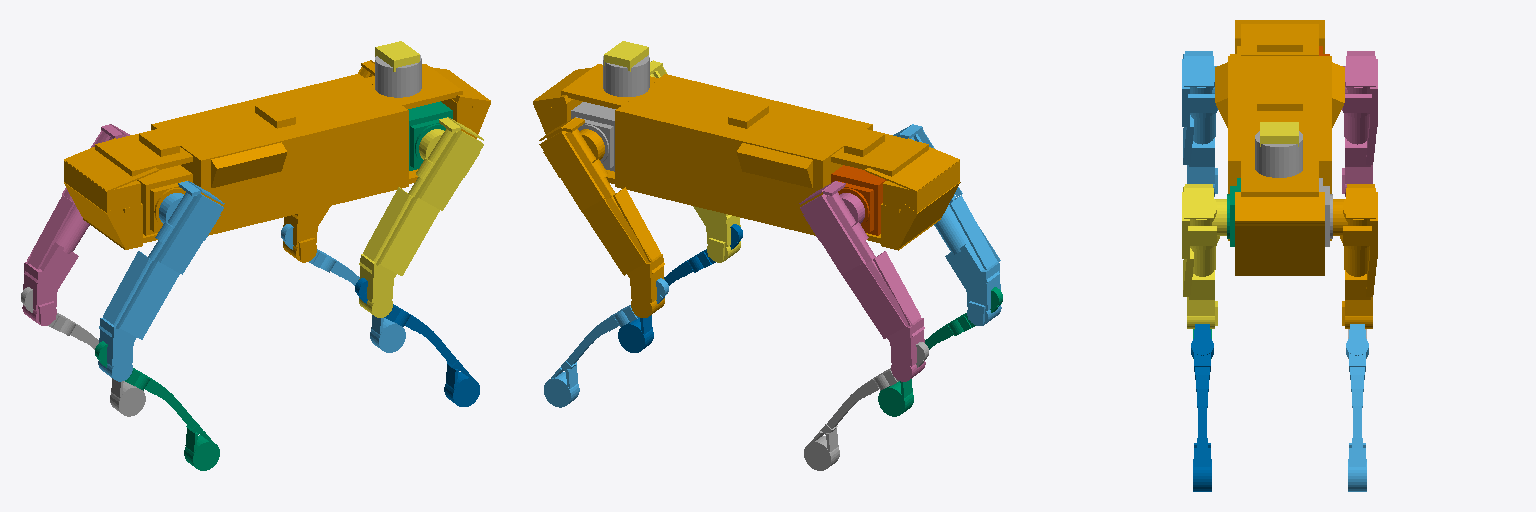
--- Render facts (derived) ---
3 views of the same robot in one strip: view 1: azimuth 30°, elevation 25°; view 2: azimuth 150°, elevation 25°; view 3: azimuth 270°, elevation 25° (orthographic).
Model Spot with 50 links and 49 joints (13 revolute, 4 continuous, 32 fixed), rooted at base_link, posed all joints at 0.
Visible links, largest first — view 1: base_link, rear right upperarm, front right upperarm, rear left upperarm, rear right forearm, front right forearm, rear left forearm, front left forearm, rear right shoulder, front left upperarm, Velodyne_Puck, front right shoulder (+1 smaller); view 2: base_link, rear left upperarm, front left upperarm, rear right upperarm, rear left forearm, front left forearm, rear right forearm, front right forearm, rear left shoulder, front right upperarm, Velodyne_Puck, front left shoulder (+1 smaller); view 3: base_link, front right upperarm, front left upperarm, rear right upperarm, rear left upperarm, front right forearm, front left forearm, Velodyne_Puck, kinect.
Boxes of the visible links, box(x1,y1,x2,y2) form: base_link: box(64, 64, 490, 249); rear right upperarm: box(98, 181, 224, 381); front right upperarm: box(359, 117, 483, 317); rear left upperarm: box(22, 124, 129, 325); rear right forearm: box(95, 341, 219, 470); front right forearm: box(355, 278, 479, 406); rear left forearm: box(21, 287, 145, 416); front left forearm: box(281, 224, 405, 352); rear right shoulder: box(137, 165, 192, 235); front left upperarm: box(283, 60, 374, 262); Velodyne_Puck: box(375, 55, 421, 97); front right shoulder: box(408, 101, 452, 170); base_link: box(533, 64, 960, 250); rear left upperarm: box(799, 181, 925, 381); front left upperarm: box(539, 117, 664, 317); rear right upperarm: box(893, 124, 1001, 325); rear left forearm: box(804, 342, 928, 470); front left forearm: box(544, 278, 668, 407); rear right forearm: box(878, 287, 1002, 416); front right forearm: box(618, 224, 742, 352); rear left shoulder: box(831, 165, 886, 235); front right upperarm: box(650, 60, 740, 262); Velodyne_Puck: box(603, 55, 649, 96); front left shoulder: box(571, 102, 615, 171); base_link: box(1215, 20, 1344, 275); front right upperarm: box(1182, 184, 1226, 328); front left upperarm: box(1333, 184, 1377, 328); rear right upperarm: box(1182, 51, 1217, 196); rear left upperarm: box(1342, 51, 1377, 196); front right forearm: box(1191, 324, 1213, 491); front left forearm: box(1346, 324, 1368, 491); Velodyne_Puck: box(1255, 131, 1302, 177); kinect: box(1260, 122, 1298, 146).
Bounding box of the posed robot: 1.06 × 0.42 × 0.8213 m (x, y, z).
Geometry: primitives only (box / cylinder / sphere), no mesh files.

robot.urdf — Spot:
<?xml version="1.0"?>
<robot name="Spot" xmlns:xacro="http://ros.org/wiki/xacro">
  <link name="base_link">
    <visual>
      <origin xyz="0.462094 0 -0.000232" rpy="1.127615 -0.00001 -1.570793"/>
      <geometry>
        <box size="0.192453 0.177358 0.043396"/>
      </geometry>
    </visual>
    <collision>
      <origin xyz="0.462094 0 -0.000232" rpy="1.127615 -0.00001 -1.570793"/>
      <geometry>
        <box size="0.192453 0.177358 0.043396"/>
      </geometry>
    </collision>
    <visual>
      <origin xyz="0.477932 0 0.084013" rpy="1.217205 -0.000011 -1.570792"/>
      <geometry>
        <box size="0.192453 0.018113 0.08717"/>
      </geometry>
    </visual>
    <collision>
      <origin xyz="0.477932 0 0.084013" rpy="1.217205 -0.000011 -1.570792"/>
      <geometry>
        <box size="0.192453 0.018113 0.08717"/>
      </geometry>
    </collision>
    <visual>
      <origin xyz="0.451833 0 0.041304" rpy="0 0 0"/>
      <geometry>
        <box size="0.037736 0.192453 0.102642"/>
      </geometry>
    </visual>
    <collision>
      <origin xyz="0.451833 0 0.041304" rpy="0 0 0"/>
      <geometry>
        <box size="0.037736 0.192453 0.102642"/>
      </geometry>
    </collision>
    <visual>
      <origin xyz="0.031113 0 0.018833" rpy="0 0 0"/>
      <geometry>
        <box size="0.535849 0.222642 0.189434"/>
      </geometry>
    </visual>
    <collision>
      <origin xyz="0.031113 0 0.018833" rpy="0 0 0"/>
      <geometry>
        <box size="0.535849 0.222642 0.189434"/>
      </geometry>
    </collision>
    <visual>
      <origin xyz="0.376019 0 0.107135" rpy="0 0 0"/>
      <geometry>
        <box size="0.158491 0.166038 0.013208"/>
      </geometry>
    </visual>
    <collision>
      <origin xyz="0.376019 0 0.107135" rpy="0 0 0"/>
      <geometry>
        <box size="0.158491 0.166038 0.013208"/>
      </geometry>
    </collision>
    <visual>
      <origin xyz="0.363578 0 -0.079657" rpy="1.537614 -0.00001 -1.570793"/>
      <geometry>
        <box size="0.166038 0.013208 0.124528"/>
      </geometry>
    </visual>
    <collision>
      <origin xyz="0.363578 0 -0.079657" rpy="1.537614 -0.00001 -1.570793"/>
      <geometry>
        <box size="0.166038 0.013208 0.124528"/>
      </geometry>
    </collision>
    <visual>
      <origin xyz="-0.319453 0 0.107135" rpy="0 0 0"/>
      <geometry>
        <box size="0.158491 0.166038 0.013208"/>
      </geometry>
    </visual>
    <collision>
      <origin xyz="-0.319453 0 0.107135" rpy="0 0 0"/>
      <geometry>
        <box size="0.158491 0.166038 0.013208"/>
      </geometry>
    </collision>
    <visual>
      <origin xyz="-0.313025 0 -0.064563" rpy="0 0 0"/>
      <geometry>
        <box size="0.14717 0.166038 0.013208"/>
      </geometry>
    </visual>
    <collision>
      <origin xyz="-0.313025 0 -0.064563" rpy="0 0 0"/>
      <geometry>
        <box size="0.14717 0.166038 0.013208"/>
      </geometry>
    </collision>
    <visual>
      <origin xyz="-0.120195 0.111629 0.074886" rpy="1.5708 -0.423195 -1.570794"/>
      <geometry>
        <box size="0.030189 0.064528 0.182264"/>
      </geometry>
    </visual>
    <collision>
      <origin xyz="-0.120195 0.111629 0.074886" rpy="1.5708 -0.423195 -1.570794"/>
      <geometry>
        <box size="0.030189 0.064528 0.182264"/>
      </geometry>
    </collision>
    <visual>
      <origin xyz="-0.120195 -0.111629 0.074886" rpy="1.5708 0.423174 -1.570793"/>
      <geometry>
        <box size="0.030189 0.064528 0.182264"/>
      </geometry>
    </visual>
    <collision>
      <origin xyz="-0.120195 -0.111629 0.074886" rpy="1.5708 0.423174 -1.570793"/>
      <geometry>
        <box size="0.030189 0.064528 0.182264"/>
      </geometry>
    </collision>
    <visual>
      <origin xyz="-0.427377 0 0.059588" rpy="0 0 0"/>
      <geometry>
        <box size="0.089057 0.192453 0.05283"/>
      </geometry>
    </visual>
    <collision>
      <origin xyz="-0.427377 0 0.059588" rpy="0 0 0"/>
      <geometry>
        <box size="0.089057 0.192453 0.05283"/>
      </geometry>
    </collision>
    <visual>
      <origin xyz="-0.404 0 0.096611" rpy="1.730798 -0.000011 -1.570794"/>
      <geometry>
        <box size="0.193585 0.003774 0.135849"/>
      </geometry>
    </visual>
    <collision>
      <origin xyz="-0.404 0 0.096611" rpy="1.730798 -0.000011 -1.570794"/>
      <geometry>
        <box size="0.193585 0.003774 0.135849"/>
      </geometry>
    </collision>
    <visual>
      <origin xyz="-0.400585 0 -0.018903" rpy="0 0 0"/>
      <geometry>
        <box size="0.04566 0.191698 0.103396"/>
      </geometry>
    </visual>
    <collision>
      <origin xyz="-0.400585 0 -0.018903" rpy="0 0 0"/>
      <geometry>
        <box size="0.04566 0.191698 0.103396"/>
      </geometry>
    </collision>
    <visual>
      <origin xyz="-0.431528 0 -0.008337" rpy="2.0308 -0.00001 -1.570793"/>
      <geometry>
        <box size="0.193585 0.109434 0.037736"/>
      </geometry>
    </visual>
    <collision>
      <origin xyz="-0.431528 0 -0.008337" rpy="2.0308 -0.00001 -1.570793"/>
      <geometry>
        <box size="0.193585 0.109434 0.037736"/>
      </geometry>
    </collision>
    <visual>
      <origin xyz="-0.28 0 0.121" rpy="0 0 0"/>
      <geometry>
        <box size="0.05 0.1 0.02"/>
      </geometry>
    </visual>
    <collision>
      <origin xyz="-0.28 0 0.121" rpy="0 0 0"/>
      <geometry>
        <box size="0.05 0.1 0.02"/>
      </geometry>
    </collision>
    <visual>
      <origin xyz="0.02 0 0.121" rpy="0 0 0"/>
      <geometry>
        <box size="0.05 0.1 0.02"/>
      </geometry>
    </visual>
    <collision>
      <origin xyz="0.02 0 0.121" rpy="0 0 0"/>
      <geometry>
        <box size="0.05 0.1 0.02"/>
      </geometry>
    </collision>
  </link>
  <link name="solid">
  </link>
  <joint name="base_link_solid_joint" type="fixed">
    <parent link="base_link"/>
    <child link="solid"/>
    <origin xyz="0.416 0 0.111801" rpy="-0.000008 -0.000008 0.000001"/>
  </joint>
  <link name="distance_sensor">
  </link>
  <joint name="solid_distance_sensor_joint" type="fixed">
    <parent link="solid"/>
    <child link="distance_sensor"/>
    <origin xyz="0 0 0" rpy="0 0.000005 0"/>
  </joint>
  <link name="kinect">
    <visual>
      <origin xyz="0 0 0.013" rpy="1.570741 0.000118 -1.570741"/>
      <geometry>
        <box size="0.084 0.027 0.068"/>
      </geometry>
    </visual>
    <collision>
      <origin xyz="0 0 0.013" rpy="1.570741 0.000118 -1.570741"/>
      <geometry>
        <box size="0.084 0.027 0.068"/>
      </geometry>
    </collision>
  </link>
  <joint name="base_link_kinect_joint" type="fixed">
    <parent link="base_link"/>
    <child link="kinect"/>
    <origin xyz="0.334809 -0.000999 0.180133" rpy="-0.000011 0.008756 0.000004"/>
  </joint>
  <joint name="tilt motor" type="revolute">
    <parent link="kinect"/>
    <child link="solid_0"/>
    <axis xyz="1 0.000118 0.000055"/>
    <limit effort="10" lower="-0.47" upper="0.47" velocity="10"/>
    <origin xyz="0 0 0.05" rpy="1.570741 0.000118 -1.570741"/>
  </joint>
  <link name="solid_0">
  </link>
  <link name="kinect range">
  </link>
  <joint name="solid_0_kinect range_joint" type="fixed">
    <parent link="solid_0"/>
    <child link="kinect range"/>
    <origin xyz="0 0 -0.0127" rpy="-0.785397 1.570792 0.785397"/>
  </joint>
  <link name="kinect color">
  </link>
  <joint name="solid_0_kinect color_joint" type="fixed">
    <parent link="solid_0"/>
    <child link="kinect color"/>
    <origin xyz="0 0 -0.0127" rpy="-0.785397 1.570792 0.785397"/>
  </joint>
  <link name="Velodyne_Puck">
    <visual>
      <origin xyz="0 -0.00165 0" rpy="0 0 0"/>
      <geometry>
        <cylinder radius="0.052" length="0.0727"/>
      </geometry>
    </visual>
    <collision>
      <origin xyz="0 -0.00165 0" rpy="0 0 0"/>
      <geometry>
        <cylinder radius="0.052" length="0.0727"/>
      </geometry>
    </collision>
  </link>
  <joint name="base_link_Velodyne_Puck_joint" type="fixed">
    <parent link="base_link"/>
    <child link="Velodyne_Puck"/>
    <origin xyz="0.336 0.000001 0.1518" rpy="-0.000008 -0.000008 0.000001"/>
  </joint>
  <joint name="rear right shoulder abduction motor" type="revolute">
    <parent link="base_link"/>
    <child link="rear right shoulder"/>
    <axis xyz="0 0 1"/>
    <limit effort="50" lower="-0.6" upper="0.5" velocity="10"/>
    <origin xyz="-0.3084 -0.0528 0.012301" rpy="1.5708 -0.00001 -1.570793"/>
  </joint>
  <link name="rear right shoulder">
    <visual>
      <origin xyz="-0.004874 0.000873 -0.000643" rpy="0 0 0"/>
      <geometry>
        <box size="0.086792 0.124528 0.120755"/>
      </geometry>
    </visual>
    <collision>
      <origin xyz="-0.004874 0.000873 -0.000643" rpy="0 0 0"/>
      <geometry>
        <box size="0.086792 0.124528 0.120755"/>
      </geometry>
    </collision>
    <visual>
      <origin xyz="0.006447 0.000873 -0.000643" rpy="0 0 0"/>
      <geometry>
        <box size="0.098113 0.098113 0.098113"/>
      </geometry>
    </visual>
    <collision>
      <origin xyz="0.006447 0.000873 -0.000643" rpy="0 0 0"/>
      <geometry>
        <box size="0.098113 0.098113 0.098113"/>
      </geometry>
    </collision>
    <visual>
      <origin xyz="0.058145 0.000873 -0.000643" rpy="-1.5708 0 1.5708"/>
      <geometry>
        <cylinder radius="0.047925" length="0.006038"/>
      </geometry>
    </visual>
    <collision>
      <origin xyz="0.058145 0.000873 -0.000643" rpy="-1.5708 0 1.5708"/>
      <geometry>
        <cylinder radius="0.047925" length="0.006038"/>
      </geometry>
    </collision>
  </link>
  <joint name="rear right shoulder rotation motor" type="revolute">
    <parent link="rear right shoulder"/>
    <child link="rear right upperarm"/>
    <axis xyz="1 0 0"/>
    <limit effort="50" lower="-1.7" upper="1.7" velocity="10"/>
    <origin xyz="0 -0.00053 0" rpy="0 0 0"/>
  </joint>
  <link name="rear right upperarm">
    <visual>
      <origin xyz="0.117011 -0.32073 0.1829" rpy="-1.5708 0 1.5708"/>
      <geometry>
        <cylinder radius="0.02717" length="0.060377"/>
      </geometry>
    </visual>
    <collision>
      <origin xyz="0.117011 -0.32073 0.1829" rpy="-1.5708 0 1.5708"/>
      <geometry>
        <cylinder radius="0.02717" length="0.060377"/>
      </geometry>
    </collision>
    <visual>
      <origin xyz="0.117011 -0.25867 0.180358" rpy="0 0.05 1.570795"/>
      <geometry>
        <box size="0.09434 0.060377 0.053208"/>
      </geometry>
    </visual>
    <collision>
      <origin xyz="0.117011 -0.25867 0.180358" rpy="0 0.05 1.570795"/>
      <geometry>
        <box size="0.09434 0.060377 0.053208"/>
      </geometry>
    </collision>
    <visual>
      <origin xyz="0.149087 -0.023654 0.007772" rpy="-0.656375 0 0"/>
      <geometry>
        <box size="0.016226 0.177358 0.071698"/>
      </geometry>
    </visual>
    <collision>
      <origin xyz="0.149087 -0.023654 0.007772" rpy="-0.656375 0 0"/>
      <geometry>
        <box size="0.016226 0.177358 0.071698"/>
      </geometry>
    </collision>
    <visual>
      <origin xyz="0.14944 -0.001095 0.048195" rpy="-0.688653 0.282831 -0.225783"/>
      <geometry>
        <box size="0.004528 0.173585 0.015094"/>
      </geometry>
    </visual>
    <collision>
      <origin xyz="0.14944 -0.001095 0.048195" rpy="-0.688653 0.282831 -0.225783"/>
      <geometry>
        <box size="0.004528 0.173585 0.015094"/>
      </geometry>
    </collision>
    <visual>
      <origin xyz="0.143963 -0.142325 0.149419" rpy="-0.689784 0.390399 -0.237371"/>
      <geometry>
        <box size="0.004528 0.173585 0.015094"/>
      </geometry>
    </visual>
    <collision>
      <origin xyz="0.143963 -0.142325 0.149419" rpy="-0.689784 0.390399 -0.237371"/>
      <geometry>
        <box size="0.004528 0.173585 0.015094"/>
      </geometry>
    </collision>
    <visual>
      <origin xyz="0.143376 -0.16295 0.113632" rpy="-0.64577 0.030504 0.039623"/>
      <geometry>
        <box size="0.016226 0.173585 0.071698"/>
      </geometry>
    </visual>
    <collision>
      <origin xyz="0.143376 -0.16295 0.113632" rpy="-0.64577 0.030504 0.039623"/>
      <geometry>
        <box size="0.016226 0.173585 0.071698"/>
      </geometry>
    </collision>
    <visual>
      <origin xyz="0.113992 -0.21476 0.154045" rpy="-0.656375 0 0"/>
      <geometry>
        <box size="0.054717 0.098113 0.064151"/>
      </geometry>
    </visual>
    <collision>
      <origin xyz="0.113992 -0.21476 0.154045" rpy="-0.656375 0 0"/>
      <geometry>
        <box size="0.054717 0.098113 0.064151"/>
      </geometry>
    </collision>
    <visual>
      <origin xyz="0.113238 -0.119427 0.086296" rpy="-2.227175 0 0"/>
      <geometry>
        <cylinder radius="0.028679" length="0.150943"/>
      </geometry>
    </visual>
    <collision>
      <origin xyz="0.113238 -0.119427 0.086296" rpy="-2.227175 0 0"/>
      <geometry>
        <cylinder radius="0.028679" length="0.150943"/>
      </geometry>
    </collision>
    <visual>
      <origin xyz="0.113238 -0.04459 0.028636" rpy="-2.227175 0 0"/>
      <geometry>
        <cylinder radius="0.037736" length="0.041509"/>
      </geometry>
    </visual>
    <collision>
      <origin xyz="0.113238 -0.04459 0.028636" rpy="-2.227175 0 0"/>
      <geometry>
        <cylinder radius="0.037736" length="0.041509"/>
      </geometry>
    </collision>
    <visual>
      <origin xyz="0.113738 -0.02284 -0.046726" rpy="-0.656375 0 0"/>
      <geometry>
        <box size="0.061509 0.069811 0.011321"/>
      </geometry>
    </visual>
    <collision>
      <origin xyz="0.113738 -0.02284 -0.046726" rpy="-0.656375 0 0"/>
      <geometry>
        <box size="0.061509 0.069811 0.011321"/>
      </geometry>
    </collision>
    <visual>
      <origin xyz="0.073615 -0.00019 -0.000689" rpy="-1.5708 0 1.5708"/>
      <geometry>
        <cylinder radius="0.04" length="0.037736"/>
      </geometry>
    </visual>
    <collision>
      <origin xyz="0.073615 -0.00019 -0.000689" rpy="-1.5708 0 1.5708"/>
      <geometry>
        <cylinder radius="0.04" length="0.037736"/>
      </geometry>
    </collision>
    <visual>
      <origin xyz="0.115879 0.008331 -0.011344" rpy="-2.227175 0 0"/>
      <geometry>
        <cylinder radius="0.033962" length="0.086792"/>
      </geometry>
    </visual>
    <collision>
      <origin xyz="0.115879 0.008331 -0.011344" rpy="-2.227175 0 0"/>
      <geometry>
        <cylinder radius="0.033962" length="0.086792"/>
      </geometry>
    </collision>
    <visual>
      <origin xyz="0.12154 0.053961 -0.047932" rpy="-0.656375 0 0"/>
      <geometry>
        <box size="0.064151 0.003774 0.071698"/>
      </geometry>
    </visual>
    <collision>
      <origin xyz="0.12154 0.053961 -0.047932" rpy="-0.656375 0 0"/>
      <geometry>
        <box size="0.064151 0.003774 0.071698"/>
      </geometry>
    </collision>
    <visual>
      <origin xyz="0.12003 0.073308 -0.006499" rpy="0.013625 0 0"/>
      <geometry>
        <box size="0.060377 0.007547 0.022642"/>
      </geometry>
    </visual>
    <collision>
      <origin xyz="0.12003 0.073308 -0.006499" rpy="0.013625 0 0"/>
      <geometry>
        <box size="0.060377 0.007547 0.022642"/>
      </geometry>
    </collision>
    <visual>
      <origin xyz="0.117011 -0.13635 0.154336" rpy="0.99 0 0"/>
      <geometry>
        <box size="0.049057 0.005283 0.169811"/>
      </geometry>
    </visual>
    <collision>
      <origin xyz="0.117011 -0.13635 0.154336" rpy="0.99 0 0"/>
      <geometry>
        <box size="0.049057 0.005283 0.169811"/>
      </geometry>
    </collision>
    <visual>
      <origin xyz="0.083111 -0.31378 0.182934" rpy="0 -0.076371 1.570798"/>
      <geometry>
        <box size="0.044 0.008 0.0387"/>
      </geometry>
    </visual>
    <collision>
      <origin xyz="0.083111 -0.31378 0.182934" rpy="0 -0.076371 1.570798"/>
      <geometry>
        <box size="0.044 0.008 0.0387"/>
      </geometry>
    </collision>
  </link>
  <joint name="rear right elbow motor" type="revolute">
    <parent link="rear right upperarm"/>
    <child link="rear right forearm"/>
    <axis xyz="1 0 0"/>
    <limit effort="50" lower="-0.45" upper="1.6" velocity="10"/>
    <origin xyz="0.1122 -0.319729 0.182338" rpy="0 0 0"/>
  </joint>
  <link name="rear right forearm">
    <visual>
      <origin xyz="0.001038 -0.271321 -0.225038" rpy="-1.5708 0 1.570801"/>
      <geometry>
        <cylinder radius="0.035094" length="0.039623"/>
      </geometry>
    </visual>
    <collision>
      <origin xyz="0.001038 -0.271321 -0.225038" rpy="-1.5708 0 1.570801"/>
      <geometry>
        <cylinder radius="0.035094" length="0.039623"/>
      </geometry>
    </collision>
    <visual>
      <origin xyz="0.001038 -0.227421 -0.230239" rpy="-0.947675 0 0"/>
      <geometry>
        <box size="0.037736 0.006038 0.041509"/>
      </geometry>
    </visual>
    <collision>
      <origin xyz="0.001038 -0.227421 -0.230239" rpy="-0.947675 0 0"/>
      <geometry>
        <box size="0.037736 0.006038 0.041509"/>
      </geometry>
    </collision>
    <visual>
      <origin xyz="0.001038 -0.232272 -0.198255" rpy="-0.093185 0 0"/>
      <geometry>
        <box size="0.037736 0.045283 0.006792"/>
      </geometry>
    </visual>
    <collision>
      <origin xyz="0.001038 -0.232272 -0.198255" rpy="-0.093185 0 0"/>
      <geometry>
        <box size="0.037736 0.045283 0.006792"/>
      </geometry>
    </collision>
    <visual>
      <origin xyz="0.001038 -0.205751 -0.206348" rpy="0.616815 0 0"/>
      <geometry>
        <box size="0.025283 0.022642 0.020755"/>
      </geometry>
    </visual>
    <collision>
      <origin xyz="0.001038 -0.205751 -0.206348" rpy="0.616815 0 0"/>
      <geometry>
        <box size="0.025283 0.022642 0.020755"/>
      </geometry>
    </collision>
    <visual>
      <origin xyz="0.001038 -0.168611 -0.18111" rpy="-2.513185 0 0"/>
      <geometry>
        <box size="0.019245 0.071698 0.017358"/>
      </geometry>
    </visual>
    <collision>
      <origin xyz="0.001038 -0.168611 -0.18111" rpy="-2.513185 0 0"/>
      <geometry>
        <box size="0.019245 0.071698 0.017358"/>
      </geometry>
    </collision>
    <visual>
      <origin xyz="0.001038 -0.125111 -0.148236" rpy="0.663625 0 0"/>
      <geometry>
        <box size="0.021887 0.037736 0.018491"/>
      </geometry>
    </visual>
    <collision>
      <origin xyz="0.001038 -0.125111 -0.148236" rpy="0.663625 0 0"/>
      <geometry>
        <box size="0.021887 0.037736 0.018491"/>
      </geometry>
    </collision>
    <visual>
      <origin xyz="0.001038 -0.100861 -0.126163" rpy="0.760415 0 0"/>
      <geometry>
        <box size="0.026415 0.030189 0.021132"/>
      </geometry>
    </visual>
    <collision>
      <origin xyz="0.001038 -0.100861 -0.126163" rpy="0.760415 0 0"/>
      <geometry>
        <box size="0.026415 0.030189 0.021132"/>
      </geometry>
    </collision>
    <visual>
      <origin xyz="0.001038 -0.084241 -0.106843" rpy="0.867225 0 0"/>
      <geometry>
        <box size="0.032453 0.022642 0.024528"/>
      </geometry>
    </visual>
    <collision>
      <origin xyz="0.001038 -0.084241 -0.106843" rpy="0.867225 0 0"/>
      <geometry>
        <box size="0.032453 0.022642 0.024528"/>
      </geometry>
    </collision>
    <visual>
      <origin xyz="0.001038 -0.068551 -0.08661" rpy="0.907225 0 0"/>
      <geometry>
        <box size="0.037736 0.033962 0.026415"/>
      </geometry>
    </visual>
    <collision>
      <origin xyz="0.001038 -0.068551 -0.08661" rpy="0.907225 0 0"/>
      <geometry>
        <box size="0.037736 0.033962 0.026415"/>
      </geometry>
    </collision>
    <visual>
      <origin xyz="0.001038 -0.049721 -0.059227" rpy="0.933245 0 0"/>
      <geometry>
        <cylinder radius="0.024528" length="0.030566"/>
      </geometry>
    </visual>
    <collision>
      <origin xyz="0.001038 -0.049721 -0.059227" rpy="0.933245 0 0"/>
      <geometry>
        <cylinder radius="0.024528" length="0.030566"/>
      </geometry>
    </collision>
    <visual>
      <origin xyz="0.001038 -0.034991 -0.038166" rpy="0.937225 0 0"/>
      <geometry>
        <box size="0.038113 0.022642 0.032075"/>
      </geometry>
    </visual>
    <collision>
      <origin xyz="0.001038 -0.034991 -0.038166" rpy="0.937225 0 0"/>
      <geometry>
        <box size="0.038113 0.022642 0.032075"/>
      </geometry>
    </collision>
    <visual>
      <origin xyz="0.001038 -0.022931 -0.021744" rpy="0.937225 0 0"/>
      <geometry>
        <box size="0.031321 0.018868 0.03283"/>
      </geometry>
    </visual>
    <collision>
      <origin xyz="0.001038 -0.022931 -0.021744" rpy="0.937225 0 0"/>
      <geometry>
        <box size="0.031321 0.018868 0.03283"/>
      </geometry>
    </collision>
    <visual>
      <origin xyz="0.001038 -0.010711 -0.006332" rpy="0.834035 0 0"/>
      <geometry>
        <box size="0.027925 0.018868 0.03283"/>
      </geometry>
    </visual>
    <collision>
      <origin xyz="0.001038 -0.010711 -0.006332" rpy="0.834035 0 0"/>
      <geometry>
        <box size="0.027925 0.018868 0.03283"/>
      </geometry>
    </collision>
    <visual>
      <origin xyz="0.001038 0.004299 0.006862" rpy="0.680845 0 0"/>
      <geometry>
        <box size="0.027547 0.018868 0.034717"/>
      </geometry>
    </visual>
    <collision>
      <origin xyz="0.001038 0.004299 0.006862" rpy="0.680845 0 0"/>
      <geometry>
        <box size="0.027547 0.018868 0.034717"/>
      </geometry>
    </collision>
    <visual>
      <origin xyz="0.001038 0.021259 0.019851" rpy="0.604465 0 0"/>
      <geometry>
        <box size="0.020377 0.026415 0.03434"/>
      </geometry>
    </visual>
    <collision>
      <origin xyz="0.001038 0.021259 0.019851" rpy="0.604465 0 0"/>
      <geometry>
        <box size="0.020377 0.026415 0.03434"/>
      </geometry>
    </collision>
    <visual>
      <origin xyz="0.001038 0.019179 -0.009531" rpy="0.494895 0 0"/>
      <geometry>
        <box size="0.010189 0.05283 0.00717"/>
      </geometry>
    </visual>
    <collision>
      <origin xyz="0.001038 0.019179 -0.009531" rpy="0.494895 0 0"/>
      <geometry>
        <box size="0.010189 0.05283 0.00717"/>
      </geometry>
    </collision>
    <visual>
      <origin xyz="0.001038 0.037459 0.024742" rpy="-1.5708 0 1.5708"/>
      <geometry>
        <cylinder radius="0.021887" length="0.019736"/>
      </geometry>
    </visual>
    <collision>
      <origin xyz="0.001038 0.037459 0.024742" rpy="-1.5708 0 1.5708"/>
      <geometry>
        <cylinder radius="0.021887" length="0.019736"/>
      </geometry>
    </collision>
  </link>
  <link name="rear right touch sensor">
  </link>
  <joint name="rear right forearm_rear right touch sensor_joint" type="fixed">
    <parent link="rear right forearm"/>
    <child link="rear right touch sensor"/>
    <origin xyz="0.001038 -0.271321 -0.225038" rpy="-1.5708 0 1.570801"/>
  </joint>
  <joint name="rear right piston motor" type="continuous">
    <parent link="rear right upperarm"/>
    <child link="solid_1"/>
    <axis xyz="1 0 0"/>
    <limit effort="10" velocity="10"/>
    <origin xyz="0.1172 -0.29077 0.2083" rpy="-0.5236 0 0"/>
  </joint>
  <link name="solid_1">
  </link>
  <joint name="rear left shoulder abduction motor" type="revolute">
    <parent link="base_link"/>
    <child link="rear left shoulder"/>
    <axis xyz="0 0 1"/>
    <limit effort="50" lower="-0.6" upper="0.5" velocity="10"/>
    <origin xyz="-0.3084 0.0528 0.012299" rpy="1.5708 -0.00001 -1.570793"/>
  </joint>
  <link name="rear left shoulder">
    <visual>
      <origin xyz="0.004874 0.000873 -0.000643" rpy="0 0 0"/>
      <geometry>
        <box size="0.086792 0.124528 0.120755"/>
      </geometry>
    </visual>
    <collision>
      <origin xyz="0.004874 0.000873 -0.000643" rpy="0 0 0"/>
      <geometry>
        <box size="0.086792 0.124528 0.120755"/>
      </geometry>
    </collision>
    <visual>
      <origin xyz="-0.006447 0.000873 -0.000643" rpy="0 0 0"/>
      <geometry>
        <box size="0.098113 0.098113 0.098113"/>
      </geometry>
    </visual>
    <collision>
      <origin xyz="-0.006447 0.000873 -0.000643" rpy="0 0 0"/>
      <geometry>
        <box size="0.098113 0.098113 0.098113"/>
      </geometry>
    </collision>
    <visual>
      <origin xyz="-0.058145 0.000873 -0.000643" rpy="-1.5708 0 1.5708"/>
      <geometry>
        <cylinder radius="0.047925" length="0.006038"/>
      </geometry>
    </visual>
    <collision>
      <origin xyz="-0.058145 0.000873 -0.000643" rpy="-1.5708 0 1.5708"/>
      <geometry>
        <cylinder radius="0.047925" length="0.006038"/>
      </geometry>
    </collision>
  </link>
  <joint name="rear left shoulder rotation motor" type="revolute">
    <parent link="rear left shoulder"/>
    <child link="rear left upperarm"/>
    <axis xyz="1 0 0"/>
    <limit effort="50" lower="-1.7" upper="1.7" velocity="10"/>
    <origin xyz="0 -0.00053 0" rpy="0 0 0"/>
  </joint>
  <link name="rear left upperarm">
    <visual>
      <origin xyz="-0.117011 -0.32073 0.1829" rpy="-1.5708 0 1.5708"/>
      <geometry>
        <cylinder radius="0.02717" length="0.060377"/>
      </geometry>
    </visual>
    <collision>
      <origin xyz="-0.117011 -0.32073 0.1829" rpy="-1.5708 0 1.5708"/>
      <geometry>
        <cylinder radius="0.02717" length="0.060377"/>
      </geometry>
    </collision>
    <visual>
      <origin xyz="-0.117011 -0.25867 0.180358" rpy="0 0.05 1.570795"/>
      <geometry>
        <box size="0.09434 0.060377 0.053208"/>
      </geometry>
    </visual>
    <collision>
      <origin xyz="-0.117011 -0.25867 0.180358" rpy="0 0.05 1.570795"/>
      <geometry>
        <box size="0.09434 0.060377 0.053208"/>
      </geometry>
    </collision>
    <visual>
      <origin xyz="-0.149087 -0.023654 0.007772" rpy="-0.656375 0 0"/>
      <geometry>
        <box size="0.016226 0.177358 0.071698"/>
      </geometry>
    </visual>
    <collision>
      <origin xyz="-0.149087 -0.023654 0.007772" rpy="-0.656375 0 0"/>
      <geometry>
        <box size="0.016226 0.177358 0.071698"/>
      </geometry>
    </collision>
    <visual>
      <origin xyz="-0.14944 -0.001095 0.048195" rpy="-0.688653 0.282831 -0.225783"/>
      <geometry>
        <box size="0.004528 0.173585 0.015094"/>
      </geometry>
    </visual>
    <collision>
      <origin xyz="-0.14944 -0.001095 0.048195" rpy="-0.688653 0.282831 -0.225783"/>
      <geometry>
        <box size="0.004528 0.173585 0.015094"/>
      </geometry>
    </collision>
    <visual>
      <origin xyz="-0.143963 -0.142325 0.149419" rpy="-0.689784 0.390399 -0.237371"/>
      <geometry>
        <box size="0.004528 0.173585 0.015094"/>
      </geometry>
    </visual>
    <collision>
      <origin xyz="-0.143963 -0.142325 0.149419" rpy="-0.689784 0.390399 -0.237371"/>
      <geometry>
        <box size="0.004528 0.173585 0.015094"/>
      </geometry>
    </collision>
    <visual>
      <origin xyz="-0.143376 -0.16295 0.113632" rpy="-0.64577 0.030504 0.039623"/>
      <geometry>
        <box size="0.016226 0.173585 0.071698"/>
      </geometry>
    </visual>
    <collision>
      <origin xyz="-0.143376 -0.16295 0.113632" rpy="-0.64577 0.030504 0.039623"/>
      <geometry>
        <box size="0.016226 0.173585 0.071698"/>
      </geometry>
    </collision>
    <visual>
      <origin xyz="-0.113992 -0.21476 0.154045" rpy="-0.656375 0 0"/>
      <geometry>
        <box size="0.054717 0.098113 0.064151"/>
      </geometry>
    </visual>
    <collision>
      <origin xyz="-0.113992 -0.21476 0.154045" rpy="-0.656375 0 0"/>
      <geometry>
        <box size="0.054717 0.098113 0.064151"/>
      </geometry>
    </collision>
    <visual>
      <origin xyz="-0.113238 -0.119427 0.086296" rpy="-2.227175 0 0"/>
      <geometry>
        <cylinder radius="0.028679" length="0.150943"/>
      </geometry>
    </visual>
    <collision>
      <origin xyz="-0.113238 -0.119427 0.086296" rpy="-2.227175 0 0"/>
      <geometry>
        <cylinder radius="0.028679" length="0.150943"/>
      </geometry>
    </collision>
    <visual>
      <origin xyz="-0.113238 -0.04459 0.028636" rpy="-2.227175 0 0"/>
      <geometry>
        <cylinder radius="0.037736" length="0.041509"/>
      </geometry>
    </visual>
    <collision>
      <origin xyz="-0.113238 -0.04459 0.028636" rpy="-2.227175 0 0"/>
      <geometry>
        <cylinder radius="0.037736" length="0.041509"/>
      </geometry>
    </collision>
    <visual>
      <origin xyz="-0.113738 -0.02284 -0.046726" rpy="-0.656375 0 0"/>
      <geometry>
        <box size="0.061509 0.069811 0.011321"/>
      </geometry>
    </visual>
    <collision>
      <origin xyz="-0.113738 -0.02284 -0.046726" rpy="-0.656375 0 0"/>
      <geometry>
        <box size="0.061509 0.069811 0.011321"/>
      </geometry>
    </collision>
    <visual>
      <origin xyz="-0.073615 -0.00019 -0.000689" rpy="-1.5708 0 1.5708"/>
      <geometry>
        <cylinder radius="0.04" length="0.037736"/>
      </geometry>
    </visual>
    <collision>
      <origin xyz="-0.073615 -0.00019 -0.000689" rpy="-1.5708 0 1.5708"/>
      <geometry>
        <cylinder radius="0.04" length="0.037736"/>
      </geometry>
    </collision>
    <visual>
      <origin xyz="-0.115879 0.008331 -0.011344" rpy="-2.227175 0 0"/>
      <geometry>
        <cylinder radius="0.033962" length="0.086792"/>
      </geometry>
    </visual>
    <collision>
      <origin xyz="-0.115879 0.008331 -0.011344" rpy="-2.227175 0 0"/>
      <geometry>
        <cylinder radius="0.033962" length="0.086792"/>
      </geometry>
    </collision>
    <visual>
      <origin xyz="-0.12154 0.053961 -0.047932" rpy="-0.656375 0 0"/>
      <geometry>
        <box size="0.064151 0.003774 0.071698"/>
      </geometry>
    </visual>
    <collision>
      <origin xyz="-0.12154 0.053961 -0.047932" rpy="-0.656375 0 0"/>
      <geometry>
        <box size="0.064151 0.003774 0.071698"/>
      </geometry>
    </collision>
    <visual>
      <origin xyz="-0.12003 0.073308 -0.006499" rpy="0.013625 0 0"/>
      <geometry>
        <box size="0.060377 0.007547 0.022642"/>
      </geometry>
    </visual>
    <collision>
      <origin xyz="-0.12003 0.073308 -0.006499" rpy="0.013625 0 0"/>
      <geometry>
        <box size="0.060377 0.007547 0.022642"/>
      </geometry>
    </collision>
    <visual>
      <origin xyz="-0.117011 -0.13635 0.154336" rpy="0.99 0 0"/>
      <geometry>
        <box size="0.049057 0.005283 0.169811"/>
      </geometry>
    </visual>
    <collision>
      <origin xyz="-0.117011 -0.13635 0.154336" rpy="0.99 0 0"/>
      <geometry>
        <box size="0.049057 0.005283 0.169811"/>
      </geometry>
    </collision>
    <visual>
      <origin xyz="-0.083111 -0.31378 0.182934" rpy="0 -0.076371 1.570798"/>
      <geometry>
        <box size="0.044 0.008 0.0387"/>
      </geometry>
    </visual>
    <collision>
      <origin xyz="-0.083111 -0.31378 0.182934" rpy="0 -0.076371 1.570798"/>
      <geometry>
        <box size="0.044 0.008 0.0387"/>
      </geometry>
    </collision>
  </link>
  <joint name="rear left elbow motor" type="revolute">
    <parent link="rear left upperarm"/>
    <child link="rear left forearm"/>
    <axis xyz="1 0 0"/>
    <limit effort="50" lower="-0.45" upper="1.6" velocity="10"/>
    <origin xyz="-0.1122 -0.319729 0.182338" rpy="0 0 0"/>
  </joint>
  <link name="rear left forearm">
    <visual>
      <origin xyz="-0.001038 -0.271321 -0.225038" rpy="-1.5708 0 1.570801"/>
      <geometry>
        <cylinder radius="0.035094" length="0.039623"/>
      </geometry>
    </visual>
    <collision>
      <origin xyz="-0.001038 -0.271321 -0.225038" rpy="-1.5708 0 1.570801"/>
      <geometry>
        <cylinder radius="0.035094" length="0.039623"/>
      </geometry>
    </collision>
    <visual>
      <origin xyz="-0.001038 -0.227421 -0.230239" rpy="-0.947675 0 0"/>
      <geometry>
        <box size="0.037736 0.006038 0.041509"/>
      </geometry>
    </visual>
    <collision>
      <origin xyz="-0.001038 -0.227421 -0.230239" rpy="-0.947675 0 0"/>
      <geometry>
        <box size="0.037736 0.006038 0.041509"/>
      </geometry>
    </collision>
    <visual>
      <origin xyz="-0.001038 -0.232272 -0.198255" rpy="-0.093185 0 0"/>
      <geometry>
        <box size="0.037736 0.045283 0.006792"/>
      </geometry>
    </visual>
    <collision>
      <origin xyz="-0.001038 -0.232272 -0.198255" rpy="-0.093185 0 0"/>
      <geometry>
        <box size="0.037736 0.045283 0.006792"/>
      </geometry>
    </collision>
    <visual>
      <origin xyz="-0.001038 -0.205751 -0.206348" rpy="0.616815 0 0"/>
      <geometry>
        <box size="0.025283 0.022642 0.020755"/>
      </geometry>
    </visual>
    <collision>
      <origin xyz="-0.001038 -0.205751 -0.206348" rpy="0.616815 0 0"/>
      <geometry>
        <box size="0.025283 0.022642 0.020755"/>
      </geometry>
    </collision>
    <visual>
      <origin xyz="-0.001038 -0.168611 -0.18111" rpy="-2.513185 0 0"/>
      <geometry>
        <box size="0.019245 0.071698 0.017358"/>
      </geometry>
    </visual>
    <collision>
      <origin xyz="-0.001038 -0.168611 -0.18111" rpy="-2.513185 0 0"/>
      <geometry>
        <box size="0.019245 0.071698 0.017358"/>
      </geometry>
    </collision>
    <visual>
      <origin xyz="-0.001038 -0.125111 -0.148236" rpy="0.663625 0 0"/>
      <geometry>
        <box size="0.021887 0.037736 0.018491"/>
      </geometry>
    </visual>
    <collision>
      <origin xyz="-0.001038 -0.125111 -0.148236" rpy="0.663625 0 0"/>
      <geometry>
        <box size="0.021887 0.037736 0.018491"/>
      </geometry>
    </collision>
    <visual>
      <origin xyz="-0.001038 -0.100861 -0.126163" rpy="0.760415 0 0"/>
      <geometry>
        <box size="0.026415 0.030189 0.021132"/>
      </geometry>
    </visual>
    <collision>
      <origin xyz="-0.001038 -0.100861 -0.126163" rpy="0.760415 0 0"/>
      <geometry>
        <box size="0.026415 0.030189 0.021132"/>
      </geometry>
    </collision>
    <visual>
      <origin xyz="-0.001038 -0.084241 -0.106843" rpy="0.867225 0 0"/>
      <geometry>
        <box size="0.032453 0.022642 0.024528"/>
      </geometry>
    </visual>
    <collision>
      <origin xyz="-0.001038 -0.084241 -0.106843" rpy="0.867225 0 0"/>
      <geometry>
        <box size="0.032453 0.022642 0.024528"/>
      </geometry>
    </collision>
    <visual>
      <origin xyz="-0.001038 -0.068551 -0.08661" rpy="0.907225 0 0"/>
      <geometry>
        <box size="0.037736 0.033962 0.026415"/>
      </geometry>
    </visual>
    <collision>
      <origin xyz="-0.001038 -0.068551 -0.08661" rpy="0.907225 0 0"/>
      <geometry>
        <box size="0.037736 0.033962 0.026415"/>
      </geometry>
    </collision>
    <visual>
      <origin xyz="-0.001038 -0.049721 -0.059227" rpy="0.933245 0 0"/>
      <geometry>
        <cylinder radius="0.024528" length="0.030566"/>
      </geometry>
    </visual>
    <collision>
      <origin xyz="-0.001038 -0.049721 -0.059227" rpy="0.933245 0 0"/>
      <geometry>
        <cylinder radius="0.024528" length="0.030566"/>
      </geometry>
    </collision>
    <visual>
      <origin xyz="-0.001038 -0.034991 -0.038166" rpy="0.937225 0 0"/>
      <geometry>
        <box size="0.038113 0.022642 0.032075"/>
      </geometry>
    </visual>
    <collision>
      <origin xyz="-0.001038 -0.034991 -0.038166" rpy="0.937225 0 0"/>
      <geometry>
        <box size="0.038113 0.022642 0.032075"/>
      </geometry>
    </collision>
    <visual>
      <origin xyz="-0.001038 -0.022931 -0.021744" rpy="0.937225 0 0"/>
      <geometry>
        <box size="0.031321 0.018868 0.03283"/>
      </geometry>
    </visual>
    <collision>
      <origin xyz="-0.001038 -0.022931 -0.021744" rpy="0.937225 0 0"/>
      <geometry>
        <box size="0.031321 0.018868 0.03283"/>
      </geometry>
    </collision>
    <visual>
      <origin xyz="-0.001038 -0.010711 -0.006332" rpy="0.834035 0 0"/>
      <geometry>
        <box size="0.027925 0.018868 0.03283"/>
      </geometry>
    </visual>
    <collision>
      <origin xyz="-0.001038 -0.010711 -0.006332" rpy="0.834035 0 0"/>
      <geometry>
        <box size="0.027925 0.018868 0.03283"/>
      </geometry>
    </collision>
    <visual>
      <origin xyz="-0.001038 0.004299 0.006862" rpy="0.680845 0 0"/>
      <geometry>
        <box size="0.027547 0.018868 0.034717"/>
      </geometry>
    </visual>
    <collision>
      <origin xyz="-0.001038 0.004299 0.006862" rpy="0.680845 0 0"/>
      <geometry>
        <box size="0.027547 0.018868 0.034717"/>
      </geometry>
    </collision>
    <visual>
      <origin xyz="-0.001038 0.021259 0.019851" rpy="0.604465 0 0"/>
      <geometry>
        <box size="0.020377 0.026415 0.03434"/>
      </geometry>
    </visual>
    <collision>
      <origin xyz="-0.001038 0.021259 0.019851" rpy="0.604465 0 0"/>
      <geometry>
        <box size="0.020377 0.026415 0.03434"/>
      </geometry>
    </collision>
    <visual>
      <origin xyz="-0.001038 0.019179 -0.009531" rpy="0.494895 0 0"/>
      <geometry>
        <box size="0.010189 0.05283 0.00717"/>
      </geometry>
    </visual>
    <collision>
      <origin xyz="-0.001038 0.019179 -0.009531" rpy="0.494895 0 0"/>
      <geometry>
        <box size="0.010189 0.05283 0.00717"/>
      </geometry>
    </collision>
    <visual>
      <origin xyz="-0.001038 0.037459 0.024742" rpy="-1.5708 0 1.5708"/>
      <geometry>
        <cylinder radius="0.021887" length="0.019736"/>
      </geometry>
    </visual>
    <collision>
      <origin xyz="-0.001038 0.037459 0.024742" rpy="-1.5708 0 1.5708"/>
      <geometry>
        <cylinder radius="0.021887" length="0.019736"/>
      </geometry>
    </collision>
  </link>
  <link name="rear left touch sensor">
  </link>
  <joint name="rear left forearm_rear left touch sensor_joint" type="fixed">
    <parent link="rear left forearm"/>
    <child link="rear left touch sensor"/>
    <origin xyz="0.001038 -0.271321 -0.225038" rpy="-1.5708 0 1.570801"/>
  </joint>
  <joint name="rear left piston motor" type="continuous">
    <parent link="rear left upperarm"/>
    <child link="solid_2"/>
    <axis xyz="1 0 0"/>
    <limit effort="10" velocity="10"/>
    <origin xyz="-0.1172 -0.29077 0.2083" rpy="-0.5236 0 0"/>
  </joint>
  <link name="solid_2">
  </link>
  <joint name="front right shoulder abduction motor" type="revolute">
    <parent link="base_link"/>
    <child link="front right shoulder"/>
    <axis xyz="0 0 1"/>
    <limit effort="50" lower="-0.6" upper="0.5" velocity="10"/>
    <origin xyz="0.3635 -0.0528 0.012401" rpy="1.5708 -0.00001 -1.570793"/>
  </joint>
  <link name="front right shoulder">
    <visual>
      <origin xyz="-0.004874 0.000873 -0.000643" rpy="0 0 0"/>
      <geometry>
        <box size="0.086792 0.124528 0.120755"/>
      </geometry>
    </visual>
    <collision>
      <origin xyz="-0.004874 0.000873 -0.000643" rpy="0 0 0"/>
      <geometry>
        <box size="0.086792 0.124528 0.120755"/>
      </geometry>
    </collision>
    <visual>
      <origin xyz="0.006447 0.000873 -0.000643" rpy="0 0 0"/>
      <geometry>
        <box size="0.098113 0.098113 0.098113"/>
      </geometry>
    </visual>
    <collision>
      <origin xyz="0.006447 0.000873 -0.000643" rpy="0 0 0"/>
      <geometry>
        <box size="0.098113 0.098113 0.098113"/>
      </geometry>
    </collision>
    <visual>
      <origin xyz="0.058145 0.000873 -0.000643" rpy="-1.5708 0 1.5708"/>
      <geometry>
        <cylinder radius="0.047925" length="0.006038"/>
      </geometry>
    </visual>
    <collision>
      <origin xyz="0.058145 0.000873 -0.000643" rpy="-1.5708 0 1.5708"/>
      <geometry>
        <cylinder radius="0.047925" length="0.006038"/>
      </geometry>
    </collision>
  </link>
  <joint name="front right shoulder rotation motor" type="revolute">
    <parent link="front right shoulder"/>
    <child link="front right upperarm"/>
    <axis xyz="1 0 0"/>
    <limit effort="50" lower="-1.7" upper="1.7" velocity="10"/>
    <origin xyz="0 -0.00053 0" rpy="0 0 0"/>
  </joint>
  <link name="front right upperarm">
    <visual>
      <origin xyz="0.117011 -0.32073 0.1829" rpy="-1.5708 0 1.5708"/>
      <geometry>
        <cylinder radius="0.02717" length="0.060377"/>
      </geometry>
    </visual>
    <collision>
      <origin xyz="0.117011 -0.32073 0.1829" rpy="-1.5708 0 1.5708"/>
      <geometry>
        <cylinder radius="0.02717" length="0.060377"/>
      </geometry>
    </collision>
    <visual>
      <origin xyz="0.117011 -0.25867 0.180358" rpy="0 0.05 1.570795"/>
      <geometry>
        <box size="0.09434 0.060377 0.053208"/>
      </geometry>
    </visual>
    <collision>
      <origin xyz="0.117011 -0.25867 0.180358" rpy="0 0.05 1.570795"/>
      <geometry>
        <box size="0.09434 0.060377 0.053208"/>
      </geometry>
    </collision>
    <visual>
      <origin xyz="0.149087 -0.023654 0.007772" rpy="-0.656375 0 0"/>
      <geometry>
        <box size="0.016226 0.177358 0.071698"/>
      </geometry>
    </visual>
    <collision>
      <origin xyz="0.149087 -0.023654 0.007772" rpy="-0.656375 0 0"/>
      <geometry>
        <box size="0.016226 0.177358 0.071698"/>
      </geometry>
    </collision>
    <visual>
      <origin xyz="0.14944 -0.001095 0.048195" rpy="-0.688653 0.282831 -0.225783"/>
      <geometry>
        <box size="0.004528 0.173585 0.015094"/>
      </geometry>
    </visual>
    <collision>
      <origin xyz="0.14944 -0.001095 0.048195" rpy="-0.688653 0.282831 -0.225783"/>
      <geometry>
        <box size="0.004528 0.173585 0.015094"/>
      </geometry>
    </collision>
    <visual>
      <origin xyz="0.143963 -0.142325 0.149419" rpy="-0.689784 0.390399 -0.237371"/>
      <geometry>
        <box size="0.004528 0.173585 0.015094"/>
      </geometry>
    </visual>
    <collision>
      <origin xyz="0.143963 -0.142325 0.149419" rpy="-0.689784 0.390399 -0.237371"/>
      <geometry>
        <box size="0.004528 0.173585 0.015094"/>
      </geometry>
    </collision>
    <visual>
      <origin xyz="0.143376 -0.16295 0.113632" rpy="-0.64577 0.030504 0.039623"/>
      <geometry>
        <box size="0.016226 0.173585 0.071698"/>
      </geometry>
    </visual>
    <collision>
      <origin xyz="0.143376 -0.16295 0.113632" rpy="-0.64577 0.030504 0.039623"/>
      <geometry>
        <box size="0.016226 0.173585 0.071698"/>
      </geometry>
    </collision>
    <visual>
      <origin xyz="0.113992 -0.21476 0.154045" rpy="-0.656375 0 0"/>
      <geometry>
        <box size="0.054717 0.098113 0.064151"/>
      </geometry>
    </visual>
    <collision>
      <origin xyz="0.113992 -0.21476 0.154045" rpy="-0.656375 0 0"/>
      <geometry>
        <box size="0.054717 0.098113 0.064151"/>
      </geometry>
    </collision>
    <visual>
      <origin xyz="0.113238 -0.119427 0.086296" rpy="-2.227175 0 0"/>
      <geometry>
        <cylinder radius="0.028679" length="0.150943"/>
      </geometry>
    </visual>
    <collision>
      <origin xyz="0.113238 -0.119427 0.086296" rpy="-2.227175 0 0"/>
      <geometry>
        <cylinder radius="0.028679" length="0.150943"/>
      </geometry>
    </collision>
    <visual>
      <origin xyz="0.113238 -0.04459 0.028636" rpy="-2.227175 0 0"/>
      <geometry>
        <cylinder radius="0.037736" length="0.041509"/>
      </geometry>
    </visual>
    <collision>
      <origin xyz="0.113238 -0.04459 0.028636" rpy="-2.227175 0 0"/>
      <geometry>
        <cylinder radius="0.037736" length="0.041509"/>
      </geometry>
    </collision>
    <visual>
      <origin xyz="0.113738 -0.02284 -0.046726" rpy="-0.656375 0 0"/>
      <geometry>
        <box size="0.061509 0.069811 0.011321"/>
      </geometry>
    </visual>
    <collision>
      <origin xyz="0.113738 -0.02284 -0.046726" rpy="-0.656375 0 0"/>
      <geometry>
        <box size="0.061509 0.069811 0.011321"/>
      </geometry>
    </collision>
    <visual>
      <origin xyz="0.073615 -0.00019 -0.000689" rpy="-1.5708 0 1.5708"/>
      <geometry>
        <cylinder radius="0.04" length="0.037736"/>
      </geometry>
    </visual>
    <collision>
      <origin xyz="0.073615 -0.00019 -0.000689" rpy="-1.5708 0 1.5708"/>
      <geometry>
        <cylinder radius="0.04" length="0.037736"/>
      </geometry>
    </collision>
    <visual>
      <origin xyz="0.115879 0.008331 -0.011344" rpy="-2.227175 0 0"/>
      <geometry>
        <cylinder radius="0.033962" length="0.086792"/>
      </geometry>
    </visual>
    <collision>
      <origin xyz="0.115879 0.008331 -0.011344" rpy="-2.227175 0 0"/>
      <geometry>
        <cylinder radius="0.033962" length="0.086792"/>
      </geometry>
    </collision>
    <visual>
      <origin xyz="0.12154 0.053961 -0.047932" rpy="-0.656375 0 0"/>
      <geometry>
        <box size="0.064151 0.003774 0.071698"/>
      </geometry>
    </visual>
    <collision>
      <origin xyz="0.12154 0.053961 -0.047932" rpy="-0.656375 0 0"/>
      <geometry>
        <box size="0.064151 0.003774 0.071698"/>
      </geometry>
    </collision>
    <visual>
      <origin xyz="0.12003 0.073308 -0.006499" rpy="0.013625 0 0"/>
      <geometry>
        <box size="0.060377 0.007547 0.022642"/>
      </geometry>
    </visual>
    <collision>
      <origin xyz="0.12003 0.073308 -0.006499" rpy="0.013625 0 0"/>
      <geometry>
        <box size="0.060377 0.007547 0.022642"/>
      </geometry>
    </collision>
    <visual>
      <origin xyz="0.117011 -0.13635 0.154336" rpy="0.99 0 0"/>
      <geometry>
        <box size="0.049057 0.005283 0.169811"/>
      </geometry>
    </visual>
    <collision>
      <origin xyz="0.117011 -0.13635 0.154336" rpy="0.99 0 0"/>
      <geometry>
        <box size="0.049057 0.005283 0.169811"/>
      </geometry>
    </collision>
    <visual>
      <origin xyz="0.083111 -0.31378 0.182934" rpy="0 -0.076371 1.570798"/>
      <geometry>
        <box size="0.044 0.008 0.0387"/>
      </geometry>
    </visual>
    <collision>
      <origin xyz="0.083111 -0.31378 0.182934" rpy="0 -0.076371 1.570798"/>
      <geometry>
        <box size="0.044 0.008 0.0387"/>
      </geometry>
    </collision>
  </link>
  <joint name="front right elbow motor" type="revolute">
    <parent link="front right upperarm"/>
    <child link="front right forearm"/>
    <axis xyz="1 0 0"/>
    <limit effort="50" lower="-0.45" upper="1.6" velocity="10"/>
    <origin xyz="0.1122 -0.319729 0.182338" rpy="0 0 0"/>
  </joint>
  <link name="front right forearm">
    <visual>
      <origin xyz="0.001038 -0.271321 -0.225038" rpy="-1.5708 0 1.570801"/>
      <geometry>
        <cylinder radius="0.035094" length="0.039623"/>
      </geometry>
    </visual>
    <collision>
      <origin xyz="0.001038 -0.271321 -0.225038" rpy="-1.5708 0 1.570801"/>
      <geometry>
        <cylinder radius="0.035094" length="0.039623"/>
      </geometry>
    </collision>
    <visual>
      <origin xyz="0.001038 -0.227421 -0.230239" rpy="-0.947675 0 0"/>
      <geometry>
        <box size="0.037736 0.006038 0.041509"/>
      </geometry>
    </visual>
    <collision>
      <origin xyz="0.001038 -0.227421 -0.230239" rpy="-0.947675 0 0"/>
      <geometry>
        <box size="0.037736 0.006038 0.041509"/>
      </geometry>
    </collision>
    <visual>
      <origin xyz="0.001038 -0.232272 -0.198255" rpy="-0.093185 0 0"/>
      <geometry>
        <box size="0.037736 0.045283 0.006792"/>
      </geometry>
    </visual>
    <collision>
      <origin xyz="0.001038 -0.232272 -0.198255" rpy="-0.093185 0 0"/>
      <geometry>
        <box size="0.037736 0.045283 0.006792"/>
      </geometry>
    </collision>
    <visual>
      <origin xyz="0.001038 -0.205751 -0.206348" rpy="0.616815 0 0"/>
      <geometry>
        <box size="0.025283 0.022642 0.020755"/>
      </geometry>
    </visual>
    <collision>
      <origin xyz="0.001038 -0.205751 -0.206348" rpy="0.616815 0 0"/>
      <geometry>
        <box size="0.025283 0.022642 0.020755"/>
      </geometry>
    </collision>
    <visual>
      <origin xyz="0.001038 -0.168611 -0.18111" rpy="-2.513185 0 0"/>
      <geometry>
        <box size="0.019245 0.071698 0.017358"/>
      </geometry>
    </visual>
    <collision>
      <origin xyz="0.001038 -0.168611 -0.18111" rpy="-2.513185 0 0"/>
      <geometry>
        <box size="0.019245 0.071698 0.017358"/>
      </geometry>
    </collision>
    <visual>
      <origin xyz="0.001038 -0.125111 -0.148236" rpy="0.663625 0 0"/>
      <geometry>
        <box size="0.021887 0.037736 0.018491"/>
      </geometry>
    </visual>
    <collision>
      <origin xyz="0.001038 -0.125111 -0.148236" rpy="0.663625 0 0"/>
      <geometry>
        <box size="0.021887 0.037736 0.018491"/>
      </geometry>
    </collision>
    <visual>
      <origin xyz="0.001038 -0.100861 -0.126163" rpy="0.760415 0 0"/>
      <geometry>
        <box size="0.026415 0.030189 0.021132"/>
      </geometry>
    </visual>
    <collision>
      <origin xyz="0.001038 -0.100861 -0.126163" rpy="0.760415 0 0"/>
      <geometry>
        <box size="0.026415 0.030189 0.021132"/>
      </geometry>
    </collision>
    <visual>
      <origin xyz="0.001038 -0.084241 -0.106843" rpy="0.867225 0 0"/>
      <geometry>
        <box size="0.032453 0.022642 0.024528"/>
      </geometry>
    </visual>
    <collision>
      <origin xyz="0.001038 -0.084241 -0.106843" rpy="0.867225 0 0"/>
      <geometry>
        <box size="0.032453 0.022642 0.024528"/>
      </geometry>
    </collision>
    <visual>
      <origin xyz="0.001038 -0.068551 -0.08661" rpy="0.907225 0 0"/>
      <geometry>
        <box size="0.037736 0.033962 0.026415"/>
      </geometry>
    </visual>
    <collision>
      <origin xyz="0.001038 -0.068551 -0.08661" rpy="0.907225 0 0"/>
      <geometry>
        <box size="0.037736 0.033962 0.026415"/>
      </geometry>
    </collision>
    <visual>
      <origin xyz="0.001038 -0.049721 -0.059227" rpy="0.933245 0 0"/>
      <geometry>
        <cylinder radius="0.024528" length="0.030566"/>
      </geometry>
    </visual>
    <collision>
      <origin xyz="0.001038 -0.049721 -0.059227" rpy="0.933245 0 0"/>
      <geometry>
        <cylinder radius="0.024528" length="0.030566"/>
      </geometry>
    </collision>
    <visual>
      <origin xyz="0.001038 -0.034991 -0.038166" rpy="0.937225 0 0"/>
      <geometry>
        <box size="0.038113 0.022642 0.032075"/>
      </geometry>
    </visual>
    <collision>
      <origin xyz="0.001038 -0.034991 -0.038166" rpy="0.937225 0 0"/>
      <geometry>
        <box size="0.038113 0.022642 0.032075"/>
      </geometry>
    </collision>
    <visual>
      <origin xyz="0.001038 -0.022931 -0.021744" rpy="0.937225 0 0"/>
      <geometry>
        <box size="0.031321 0.018868 0.03283"/>
      </geometry>
    </visual>
    <collision>
      <origin xyz="0.001038 -0.022931 -0.021744" rpy="0.937225 0 0"/>
      <geometry>
        <box size="0.031321 0.018868 0.03283"/>
      </geometry>
    </collision>
    <visual>
      <origin xyz="0.001038 -0.010711 -0.006332" rpy="0.834035 0 0"/>
      <geometry>
        <box size="0.027925 0.018868 0.03283"/>
      </geometry>
    </visual>
    <collision>
      <origin xyz="0.001038 -0.010711 -0.006332" rpy="0.834035 0 0"/>
      <geometry>
        <box size="0.027925 0.018868 0.03283"/>
      </geometry>
    </collision>
    <visual>
      <origin xyz="0.001038 0.004299 0.006862" rpy="0.680845 0 0"/>
      <geometry>
        <box size="0.027547 0.018868 0.034717"/>
      </geometry>
    </visual>
    <collision>
      <origin xyz="0.001038 0.004299 0.006862" rpy="0.680845 0 0"/>
      <geometry>
        <box size="0.027547 0.018868 0.034717"/>
      </geometry>
    </collision>
    <visual>
      <origin xyz="0.001038 0.021259 0.019851" rpy="0.604465 0 0"/>
      <geometry>
        <box size="0.020377 0.026415 0.03434"/>
      </geometry>
    </visual>
    <collision>
      <origin xyz="0.001038 0.021259 0.019851" rpy="0.604465 0 0"/>
      <geometry>
        <box size="0.020377 0.026415 0.03434"/>
      </geometry>
    </collision>
    <visual>
      <origin xyz="0.001038 0.019179 -0.009531" rpy="0.494895 0 0"/>
      <geometry>
        <box size="0.010189 0.05283 0.00717"/>
      </geometry>
    </visual>
    <collision>
      <origin xyz="0.001038 0.019179 -0.009531" rpy="0.494895 0 0"/>
      <geometry>
        <box size="0.010189 0.05283 0.00717"/>
      </geometry>
    </collision>
    <visual>
      <origin xyz="0.001038 0.037459 0.024742" rpy="-1.5708 0 1.5708"/>
      <geometry>
        <cylinder radius="0.021887" length="0.019736"/>
      </geometry>
    </visual>
    <collision>
      <origin xyz="0.001038 0.037459 0.024742" rpy="-1.5708 0 1.5708"/>
      <geometry>
        <cylinder radius="0.021887" length="0.019736"/>
      </geometry>
    </collision>
  </link>
  <link name="front right touch sensor">
  </link>
  <joint name="front right forearm_front right touch sensor_joint" type="fixed">
    <parent link="front right forearm"/>
    <child link="front right touch sensor"/>
    <origin xyz="0.001038 -0.271321 -0.225038" rpy="-1.5708 0 1.570801"/>
  </joint>
  <joint name="front right piston motor" type="continuous">
    <parent link="front right upperarm"/>
    <child link="solid_3"/>
    <axis xyz="1 0 0"/>
    <limit effort="10" velocity="10"/>
    <origin xyz="0.1172 -0.29077 0.2083" rpy="-0.5236 0 0"/>
  </joint>
  <link name="solid_3">
  </link>
  <joint name="front left shoulder abduction motor" type="revolute">
    <parent link="base_link"/>
    <child link="front left shoulder"/>
    <axis xyz="0 0 1"/>
    <limit effort="50" lower="-0.6" upper="0.5" velocity="10"/>
    <origin xyz="0.3635 0.0528 0.012399" rpy="1.5708 -0.00001 -1.570793"/>
  </joint>
  <link name="front left shoulder">
    <visual>
      <origin xyz="0.004874 0.000873 -0.000643" rpy="0 0 0"/>
      <geometry>
        <box size="0.086792 0.124528 0.120755"/>
      </geometry>
    </visual>
    <collision>
      <origin xyz="0.004874 0.000873 -0.000643" rpy="0 0 0"/>
      <geometry>
        <box size="0.086792 0.124528 0.120755"/>
      </geometry>
    </collision>
    <visual>
      <origin xyz="-0.006447 0.000873 -0.000643" rpy="0 0 0"/>
      <geometry>
        <box size="0.098113 0.098113 0.098113"/>
      </geometry>
    </visual>
    <collision>
      <origin xyz="-0.006447 0.000873 -0.000643" rpy="0 0 0"/>
      <geometry>
        <box size="0.098113 0.098113 0.098113"/>
      </geometry>
    </collision>
    <visual>
      <origin xyz="-0.058145 0.000873 -0.000643" rpy="-1.5708 0 1.5708"/>
      <geometry>
        <cylinder radius="0.047925" length="0.006038"/>
      </geometry>
    </visual>
    <collision>
      <origin xyz="-0.058145 0.000873 -0.000643" rpy="-1.5708 0 1.5708"/>
      <geometry>
        <cylinder radius="0.047925" length="0.006038"/>
      </geometry>
    </collision>
  </link>
  <joint name="front left shoulder rotation motor" type="revolute">
    <parent link="front left shoulder"/>
    <child link="front left upperarm"/>
    <axis xyz="1 0 0"/>
    <limit effort="50" lower="-1.7" upper="1.7" velocity="10"/>
    <origin xyz="0 -0.00053 0" rpy="0 0 0"/>
  </joint>
  <link name="front left upperarm">
    <visual>
      <origin xyz="-0.117011 -0.32073 0.1829" rpy="-1.5708 0 1.5708"/>
      <geometry>
        <cylinder radius="0.02717" length="0.060377"/>
      </geometry>
    </visual>
    <collision>
      <origin xyz="-0.117011 -0.32073 0.1829" rpy="-1.5708 0 1.5708"/>
      <geometry>
        <cylinder radius="0.02717" length="0.060377"/>
      </geometry>
    </collision>
    <visual>
      <origin xyz="-0.117011 -0.25867 0.180358" rpy="0 0.05 1.570795"/>
      <geometry>
        <box size="0.09434 0.060377 0.053208"/>
      </geometry>
    </visual>
    <collision>
      <origin xyz="-0.117011 -0.25867 0.180358" rpy="0 0.05 1.570795"/>
      <geometry>
        <box size="0.09434 0.060377 0.053208"/>
      </geometry>
    </collision>
    <visual>
      <origin xyz="-0.149087 -0.023654 0.007772" rpy="-0.656375 0 0"/>
      <geometry>
        <box size="0.016226 0.177358 0.071698"/>
      </geometry>
    </visual>
    <collision>
      <origin xyz="-0.149087 -0.023654 0.007772" rpy="-0.656375 0 0"/>
      <geometry>
        <box size="0.016226 0.177358 0.071698"/>
      </geometry>
    </collision>
    <visual>
      <origin xyz="-0.14944 -0.001095 0.048195" rpy="-0.688653 0.282831 -0.225783"/>
      <geometry>
        <box size="0.004528 0.173585 0.015094"/>
      </geometry>
    </visual>
    <collision>
      <origin xyz="-0.14944 -0.001095 0.048195" rpy="-0.688653 0.282831 -0.225783"/>
      <geometry>
        <box size="0.004528 0.173585 0.015094"/>
      </geometry>
    </collision>
    <visual>
      <origin xyz="-0.143963 -0.142325 0.149419" rpy="-0.689784 0.390399 -0.237371"/>
      <geometry>
        <box size="0.004528 0.173585 0.015094"/>
      </geometry>
    </visual>
    <collision>
      <origin xyz="-0.143963 -0.142325 0.149419" rpy="-0.689784 0.390399 -0.237371"/>
      <geometry>
        <box size="0.004528 0.173585 0.015094"/>
      </geometry>
    </collision>
    <visual>
      <origin xyz="-0.143376 -0.16295 0.113632" rpy="-0.64577 0.030504 0.039623"/>
      <geometry>
        <box size="0.016226 0.173585 0.071698"/>
      </geometry>
    </visual>
    <collision>
      <origin xyz="-0.143376 -0.16295 0.113632" rpy="-0.64577 0.030504 0.039623"/>
      <geometry>
        <box size="0.016226 0.173585 0.071698"/>
      </geometry>
    </collision>
    <visual>
      <origin xyz="-0.113992 -0.21476 0.154045" rpy="-0.656375 0 0"/>
      <geometry>
        <box size="0.054717 0.098113 0.064151"/>
      </geometry>
    </visual>
    <collision>
      <origin xyz="-0.113992 -0.21476 0.154045" rpy="-0.656375 0 0"/>
      <geometry>
        <box size="0.054717 0.098113 0.064151"/>
      </geometry>
    </collision>
    <visual>
      <origin xyz="-0.113238 -0.119427 0.086296" rpy="-2.227175 0 0"/>
      <geometry>
        <cylinder radius="0.028679" length="0.150943"/>
      </geometry>
    </visual>
    <collision>
      <origin xyz="-0.113238 -0.119427 0.086296" rpy="-2.227175 0 0"/>
      <geometry>
        <cylinder radius="0.028679" length="0.150943"/>
      </geometry>
    </collision>
    <visual>
      <origin xyz="-0.113238 -0.04459 0.028636" rpy="-2.227175 0 0"/>
      <geometry>
        <cylinder radius="0.037736" length="0.041509"/>
      </geometry>
    </visual>
    <collision>
      <origin xyz="-0.113238 -0.04459 0.028636" rpy="-2.227175 0 0"/>
      <geometry>
        <cylinder radius="0.037736" length="0.041509"/>
      </geometry>
    </collision>
    <visual>
      <origin xyz="-0.113738 -0.02284 -0.046726" rpy="-0.656375 0 0"/>
      <geometry>
        <box size="0.061509 0.069811 0.011321"/>
      </geometry>
    </visual>
    <collision>
      <origin xyz="-0.113738 -0.02284 -0.046726" rpy="-0.656375 0 0"/>
      <geometry>
        <box size="0.061509 0.069811 0.011321"/>
      </geometry>
    </collision>
    <visual>
      <origin xyz="-0.073615 -0.00019 -0.000689" rpy="-1.5708 0 1.5708"/>
      <geometry>
        <cylinder radius="0.04" length="0.037736"/>
      </geometry>
    </visual>
    <collision>
      <origin xyz="-0.073615 -0.00019 -0.000689" rpy="-1.5708 0 1.5708"/>
      <geometry>
        <cylinder radius="0.04" length="0.037736"/>
      </geometry>
    </collision>
    <visual>
      <origin xyz="-0.115879 0.008331 -0.011344" rpy="-2.227175 0 0"/>
      <geometry>
        <cylinder radius="0.033962" length="0.086792"/>
      </geometry>
    </visual>
    <collision>
      <origin xyz="-0.115879 0.008331 -0.011344" rpy="-2.227175 0 0"/>
      <geometry>
        <cylinder radius="0.033962" length="0.086792"/>
      </geometry>
    </collision>
    <visual>
      <origin xyz="-0.12154 0.053961 -0.047932" rpy="-0.656375 0 0"/>
      <geometry>
        <box size="0.064151 0.003774 0.071698"/>
      </geometry>
    </visual>
    <collision>
      <origin xyz="-0.12154 0.053961 -0.047932" rpy="-0.656375 0 0"/>
      <geometry>
        <box size="0.064151 0.003774 0.071698"/>
      </geometry>
    </collision>
    <visual>
      <origin xyz="-0.12003 0.073308 -0.006499" rpy="0.013625 0 0"/>
      <geometry>
        <box size="0.060377 0.007547 0.022642"/>
      </geometry>
    </visual>
    <collision>
      <origin xyz="-0.12003 0.073308 -0.006499" rpy="0.013625 0 0"/>
      <geometry>
        <box size="0.060377 0.007547 0.022642"/>
      </geometry>
    </collision>
    <visual>
      <origin xyz="-0.117011 -0.13635 0.154336" rpy="0.99 0 0"/>
      <geometry>
        <box size="0.049057 0.005283 0.169811"/>
      </geometry>
    </visual>
    <collision>
      <origin xyz="-0.117011 -0.13635 0.154336" rpy="0.99 0 0"/>
      <geometry>
        <box size="0.049057 0.005283 0.169811"/>
      </geometry>
    </collision>
    <visual>
      <origin xyz="-0.083111 -0.31378 0.182934" rpy="0 -0.076371 1.570798"/>
      <geometry>
        <box size="0.044 0.008 0.0387"/>
      </geometry>
    </visual>
    <collision>
      <origin xyz="-0.083111 -0.31378 0.182934" rpy="0 -0.076371 1.570798"/>
      <geometry>
        <box size="0.044 0.008 0.0387"/>
      </geometry>
    </collision>
  </link>
  <joint name="front left elbow motor" type="revolute">
    <parent link="front left upperarm"/>
    <child link="front left forearm"/>
    <axis xyz="1 0 0"/>
    <limit effort="50" lower="-0.45" upper="1.6" velocity="10"/>
    <origin xyz="-0.1122 -0.319729 0.182338" rpy="0 0 0"/>
  </joint>
  <link name="front left forearm">
    <visual>
      <origin xyz="-0.001038 -0.271321 -0.225038" rpy="-1.5708 0 1.570801"/>
      <geometry>
        <cylinder radius="0.035094" length="0.039623"/>
      </geometry>
    </visual>
    <collision>
      <origin xyz="-0.001038 -0.271321 -0.225038" rpy="-1.5708 0 1.570801"/>
      <geometry>
        <cylinder radius="0.035094" length="0.039623"/>
      </geometry>
    </collision>
    <visual>
      <origin xyz="-0.001038 -0.227421 -0.230239" rpy="-0.947675 0 0"/>
      <geometry>
        <box size="0.037736 0.006038 0.041509"/>
      </geometry>
    </visual>
    <collision>
      <origin xyz="-0.001038 -0.227421 -0.230239" rpy="-0.947675 0 0"/>
      <geometry>
        <box size="0.037736 0.006038 0.041509"/>
      </geometry>
    </collision>
    <visual>
      <origin xyz="-0.001038 -0.232272 -0.198255" rpy="-0.093185 0 0"/>
      <geometry>
        <box size="0.037736 0.045283 0.006792"/>
      </geometry>
    </visual>
    <collision>
      <origin xyz="-0.001038 -0.232272 -0.198255" rpy="-0.093185 0 0"/>
      <geometry>
        <box size="0.037736 0.045283 0.006792"/>
      </geometry>
    </collision>
    <visual>
      <origin xyz="-0.001038 -0.205751 -0.206348" rpy="0.616815 0 0"/>
      <geometry>
        <box size="0.025283 0.022642 0.020755"/>
      </geometry>
    </visual>
    <collision>
      <origin xyz="-0.001038 -0.205751 -0.206348" rpy="0.616815 0 0"/>
      <geometry>
        <box size="0.025283 0.022642 0.020755"/>
      </geometry>
    </collision>
    <visual>
      <origin xyz="-0.001038 -0.168611 -0.18111" rpy="-2.513185 0 0"/>
      <geometry>
        <box size="0.019245 0.071698 0.017358"/>
      </geometry>
    </visual>
    <collision>
      <origin xyz="-0.001038 -0.168611 -0.18111" rpy="-2.513185 0 0"/>
      <geometry>
        <box size="0.019245 0.071698 0.017358"/>
      </geometry>
    </collision>
    <visual>
      <origin xyz="-0.001038 -0.125111 -0.148236" rpy="0.663625 0 0"/>
      <geometry>
        <box size="0.021887 0.037736 0.018491"/>
      </geometry>
    </visual>
    <collision>
      <origin xyz="-0.001038 -0.125111 -0.148236" rpy="0.663625 0 0"/>
      <geometry>
        <box size="0.021887 0.037736 0.018491"/>
      </geometry>
    </collision>
    <visual>
      <origin xyz="-0.001038 -0.100861 -0.126163" rpy="0.760415 0 0"/>
      <geometry>
        <box size="0.026415 0.030189 0.021132"/>
      </geometry>
    </visual>
    <collision>
      <origin xyz="-0.001038 -0.100861 -0.126163" rpy="0.760415 0 0"/>
      <geometry>
        <box size="0.026415 0.030189 0.021132"/>
      </geometry>
    </collision>
    <visual>
      <origin xyz="-0.001038 -0.084241 -0.106843" rpy="0.867225 0 0"/>
      <geometry>
        <box size="0.032453 0.022642 0.024528"/>
      </geometry>
    </visual>
    <collision>
      <origin xyz="-0.001038 -0.084241 -0.106843" rpy="0.867225 0 0"/>
      <geometry>
        <box size="0.032453 0.022642 0.024528"/>
      </geometry>
    </collision>
    <visual>
      <origin xyz="-0.001038 -0.068551 -0.08661" rpy="0.907225 0 0"/>
      <geometry>
        <box size="0.037736 0.033962 0.026415"/>
      </geometry>
    </visual>
    <collision>
      <origin xyz="-0.001038 -0.068551 -0.08661" rpy="0.907225 0 0"/>
      <geometry>
        <box size="0.037736 0.033962 0.026415"/>
      </geometry>
    </collision>
    <visual>
      <origin xyz="-0.001038 -0.049721 -0.059227" rpy="0.933245 0 0"/>
      <geometry>
        <cylinder radius="0.024528" length="0.030566"/>
      </geometry>
    </visual>
    <collision>
      <origin xyz="-0.001038 -0.049721 -0.059227" rpy="0.933245 0 0"/>
      <geometry>
        <cylinder radius="0.024528" length="0.030566"/>
      </geometry>
    </collision>
    <visual>
      <origin xyz="-0.001038 -0.034991 -0.038166" rpy="0.937225 0 0"/>
      <geometry>
        <box size="0.038113 0.022642 0.032075"/>
      </geometry>
    </visual>
    <collision>
      <origin xyz="-0.001038 -0.034991 -0.038166" rpy="0.937225 0 0"/>
      <geometry>
        <box size="0.038113 0.022642 0.032075"/>
      </geometry>
    </collision>
    <visual>
      <origin xyz="-0.001038 -0.022931 -0.021744" rpy="0.937225 0 0"/>
      <geometry>
        <box size="0.031321 0.018868 0.03283"/>
      </geometry>
    </visual>
    <collision>
      <origin xyz="-0.001038 -0.022931 -0.021744" rpy="0.937225 0 0"/>
      <geometry>
        <box size="0.031321 0.018868 0.03283"/>
      </geometry>
    </collision>
    <visual>
      <origin xyz="-0.001038 -0.010711 -0.006332" rpy="0.834035 0 0"/>
      <geometry>
        <box size="0.027925 0.018868 0.03283"/>
      </geometry>
    </visual>
    <collision>
      <origin xyz="-0.001038 -0.010711 -0.006332" rpy="0.834035 0 0"/>
      <geometry>
        <box size="0.027925 0.018868 0.03283"/>
      </geometry>
    </collision>
    <visual>
      <origin xyz="-0.001038 0.004299 0.006862" rpy="0.680845 0 0"/>
      <geometry>
        <box size="0.027547 0.018868 0.034717"/>
      </geometry>
    </visual>
    <collision>
      <origin xyz="-0.001038 0.004299 0.006862" rpy="0.680845 0 0"/>
      <geometry>
        <box size="0.027547 0.018868 0.034717"/>
      </geometry>
    </collision>
    <visual>
      <origin xyz="-0.001038 0.021259 0.019851" rpy="0.604465 0 0"/>
      <geometry>
        <box size="0.020377 0.026415 0.03434"/>
      </geometry>
    </visual>
    <collision>
      <origin xyz="-0.001038 0.021259 0.019851" rpy="0.604465 0 0"/>
      <geometry>
        <box size="0.020377 0.026415 0.03434"/>
      </geometry>
    </collision>
    <visual>
      <origin xyz="-0.001038 0.019179 -0.009531" rpy="0.494895 0 0"/>
      <geometry>
        <box size="0.010189 0.05283 0.00717"/>
      </geometry>
    </visual>
    <collision>
      <origin xyz="-0.001038 0.019179 -0.009531" rpy="0.494895 0 0"/>
      <geometry>
        <box size="0.010189 0.05283 0.00717"/>
      </geometry>
    </collision>
    <visual>
      <origin xyz="-0.001038 0.037459 0.024742" rpy="-1.5708 0 1.5708"/>
      <geometry>
        <cylinder radius="0.021887" length="0.019736"/>
      </geometry>
    </visual>
    <collision>
      <origin xyz="-0.001038 0.037459 0.024742" rpy="-1.5708 0 1.5708"/>
      <geometry>
        <cylinder radius="0.021887" length="0.019736"/>
      </geometry>
    </collision>
  </link>
  <link name="front left touch sensor">
  </link>
  <joint name="front left forearm_front left touch sensor_joint" type="fixed">
    <parent link="front left forearm"/>
    <child link="front left touch sensor"/>
    <origin xyz="0.001038 -0.271321 -0.225038" rpy="-1.5708 0 1.570801"/>
  </joint>
  <joint name="front left piston motor" type="continuous">
    <parent link="front left upperarm"/>
    <child link="solid_4"/>
    <axis xyz="1 0 0"/>
    <limit effort="10" velocity="10"/>
    <origin xyz="-0.1172 -0.29077 0.2083" rpy="-0.5236 0 0"/>
  </joint>
  <link name="solid_4">
  </link>
  <link name="rear depth">
  </link>
  <joint name="base_link_rear depth_joint" type="fixed">
    <parent link="base_link"/>
    <child link="rear depth"/>
    <origin xyz="-0.278136 -1.397633 0.628752" rpy="0.000015 0.474984 -3.141579"/>
  </joint>
  <link name="rear camera">
  </link>
  <joint name="base_link_rear camera_joint" type="fixed">
    <parent link="base_link"/>
    <child link="rear camera"/>
    <origin xyz="-0.448136 -0.018115 0.012558" rpy="0.000015 0.474984 -3.141579"/>
  </joint>
  <link name="left flank depth">
  </link>
  <joint name="base_link_left flank depth_joint" type="fixed">
    <parent link="base_link"/>
    <child link="left flank depth"/>
    <origin xyz="-0.13568 0.110127 0.065528" rpy="-0.000003 0.403191 1.570802"/>
  </joint>
  <link name="left flank camera">
  </link>
  <joint name="base_link_left flank camera_joint" type="fixed">
    <parent link="base_link"/>
    <child link="left flank camera"/>
    <origin xyz="-0.13568 0.110127 0.065528" rpy="-0.000003 0.403191 1.570802"/>
  </joint>
  <link name="right flank depth">
  </link>
  <joint name="base_link_right flank depth_joint" type="fixed">
    <parent link="base_link"/>
    <child link="right flank depth"/>
    <origin xyz="-0.135678 -0.110163 0.06561" rpy="0.000005 0.413171 -1.570794"/>
  </joint>
  <link name="right flank camera">
  </link>
  <joint name="base_link_right flank camera_joint" type="fixed">
    <parent link="base_link"/>
    <child link="right flank camera"/>
    <origin xyz="-0.135678 -0.110163 0.06561" rpy="0.000005 0.413171 -1.570794"/>
  </joint>
  <link name="left head depth">
  </link>
  <joint name="base_link_left head depth_joint" type="fixed">
    <parent link="base_link"/>
    <child link="left head depth"/>
    <origin xyz="0.46325 0.045111 0.029551" rpy="-0.158862 0.433786 -0.408004"/>
  </joint>
  <link name="left head camera">
  </link>
  <joint name="base_link_left head camera_joint" type="fixed">
    <parent link="base_link"/>
    <child link="left head camera"/>
    <origin xyz="0.46325 0.045111 0.029551" rpy="-0.158862 0.433786 -0.408004"/>
  </joint>
  <link name="right head depth">
  </link>
  <joint name="base_link_right head depth_joint" type="fixed">
    <parent link="base_link"/>
    <child link="right head depth"/>
    <origin xyz="0.462603 -0.044896 0.027972" rpy="0.193959 0.3931 0.409605"/>
  </joint>
  <link name="right head camera">
  </link>
  <joint name="base_link_right head camera_joint" type="fixed">
    <parent link="base_link"/>
    <child link="right head camera"/>
    <origin xyz="0.462603 -0.044896 0.027972" rpy="0.193959 0.3931 0.409605"/>
  </joint>
  <link name="left bottom led">
  </link>
  <joint name="base_link_left bottom led_joint" type="fixed">
    <parent link="base_link"/>
    <child link="left bottom led"/>
    <origin xyz="0.481728 0.081967 0.001191" rpy="1.873112 0.329178 0.767486"/>
  </joint>
  <link name="right bottom led">
  </link>
  <joint name="base_link_right bottom led_joint" type="fixed">
    <parent link="base_link"/>
    <child link="right bottom led"/>
    <origin xyz="0.481728 -0.081963 0.001193" rpy="1.279539 0.338923 -0.733718"/>
  </joint>
  <link name="right middle down led">
  </link>
  <joint name="base_link_right middle down led_joint" type="fixed">
    <parent link="base_link"/>
    <child link="right middle down led"/>
    <origin xyz="0.489879 -0.081963 0.018293" rpy="1.279539 0.338923 -0.733718"/>
  </joint>
  <link name="right middle up led">
  </link>
  <joint name="base_link_right middle up led_joint" type="fixed">
    <parent link="base_link"/>
    <child link="right middle up led"/>
    <origin xyz="0.497601 -0.081963 0.034493" rpy="1.279539 0.338923 -0.733718"/>
  </joint>
  <link name="right top led">
  </link>
  <joint name="base_link_right top led_joint" type="fixed">
    <parent link="base_link"/>
    <child link="right top led"/>
    <origin xyz="0.505323 -0.081963 0.050723" rpy="1.279539 0.338923 -0.733718"/>
  </joint>
  <link name="left middle down led">
  </link>
  <joint name="base_link_left middle down led_joint" type="fixed">
    <parent link="base_link"/>
    <child link="left middle down led"/>
    <origin xyz="0.489879 0.081966 0.018291" rpy="1.873112 0.329178 0.767486"/>
  </joint>
  <link name="left middle up led">
  </link>
  <joint name="base_link_left middle up led_joint" type="fixed">
    <parent link="base_link"/>
    <child link="left middle up led"/>
    <origin xyz="0.497601 0.081967 0.034491" rpy="1.873112 0.329178 0.767486"/>
  </joint>
  <link name="left top led">
  </link>
  <joint name="base_link_left top led_joint" type="fixed">
    <parent link="base_link"/>
    <child link="left top led"/>
    <origin xyz="0.505323 0.081967 0.050721" rpy="1.873112 0.329178 0.767486"/>
  </joint>
  <link name="inertial unit">
  </link>
  <joint name="base_link_inertial unit_joint" type="fixed">
    <parent link="base_link"/>
    <child link="inertial unit"/>
    <origin xyz="0 0 0" rpy="0 0 0"/>
  </joint>
  <link name="gyro">
  </link>
  <joint name="base_link_gyro_joint" type="fixed">
    <parent link="base_link"/>
    <child link="gyro"/>
    <origin xyz="0 0 0" rpy="0 0 0"/>
  </joint>
  <link name="gps">
  </link>
  <joint name="base_link_gps_joint" type="fixed">
    <parent link="base_link"/>
    <child link="gps"/>
    <origin xyz="0 0 0" rpy="0 0 0"/>
  </joint>
  <link name="accelerometer">
  </link>
  <joint name="base_link_accelerometer_joint" type="fixed">
    <parent link="base_link"/>
    <child link="accelerometer"/>
    <origin xyz="0 0 0" rpy="0 0 0"/>
  </joint>
</robot>
